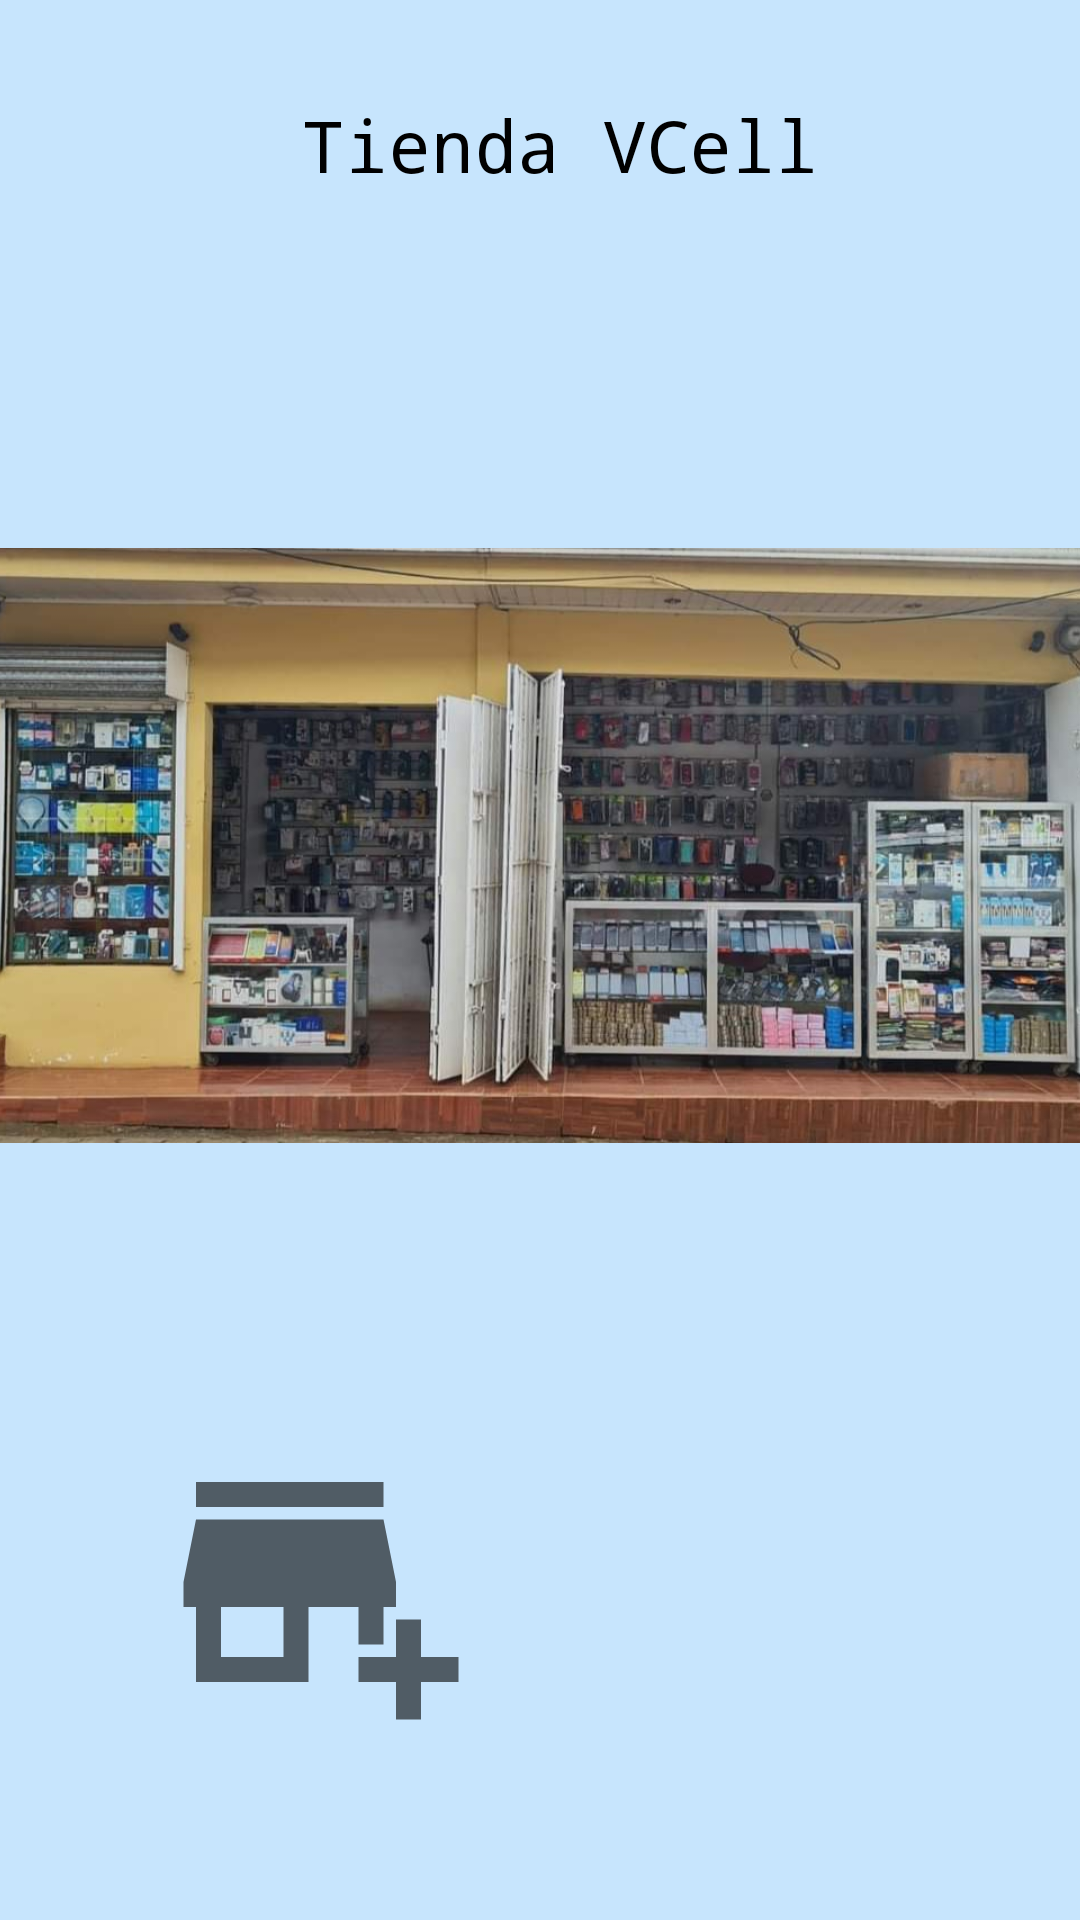

Named icons in this screenshot (1080*1920) and their centers, point (x, y):
add business: point (321, 1601)
